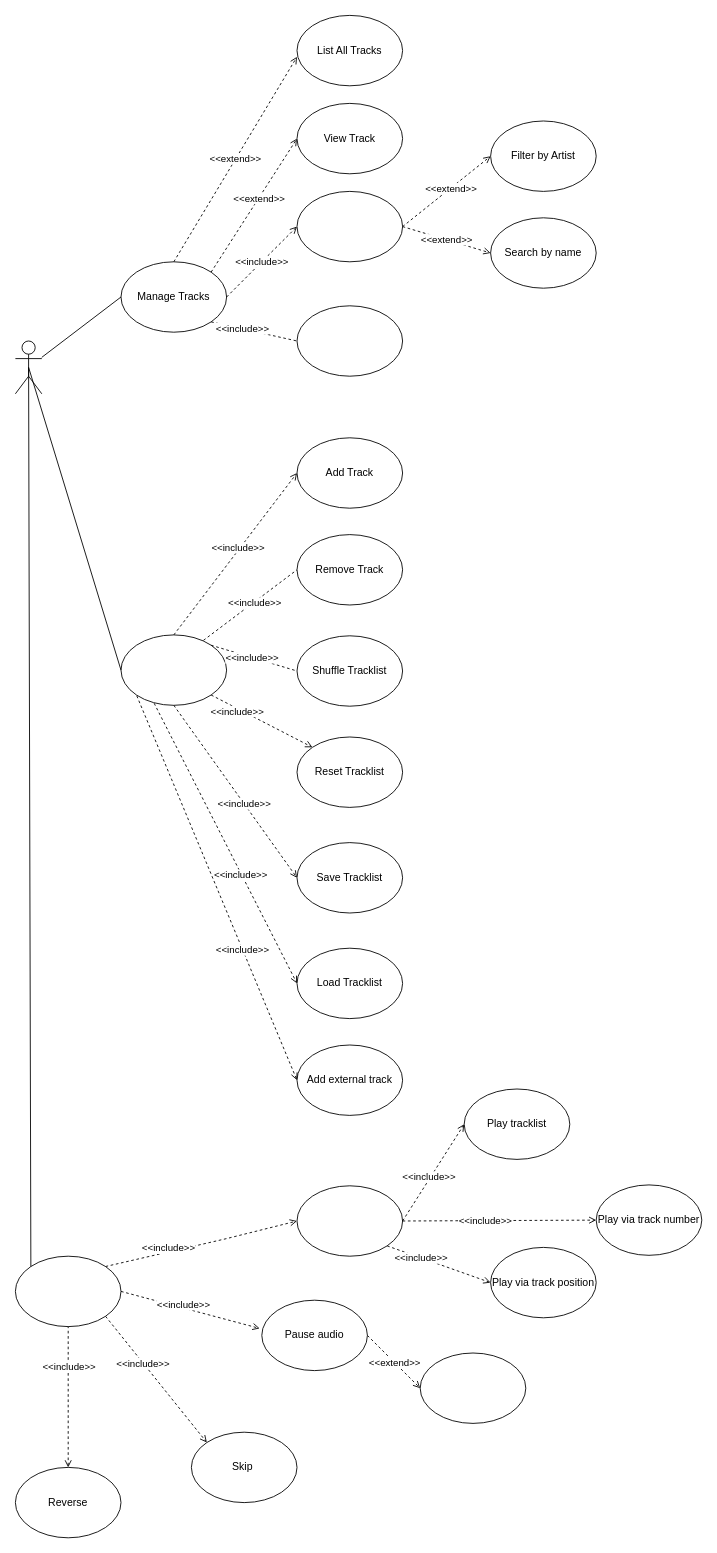
The diagram is 717 pixels wide and 1553 high, and some of its shapes have lost their labels. Here are the shapes that lost their labels. From the top down, the centre of each, then its label:
At [349,226]: "Search Track".
At [349,340]: "Update Track Rating".
At [28,367]: "User".
At [173,669]: "Manage Tracklist".
At [349,1220]: "Play audio".
At [68,1291]: "Track Playback".
At [472,1387]: "Resume".
